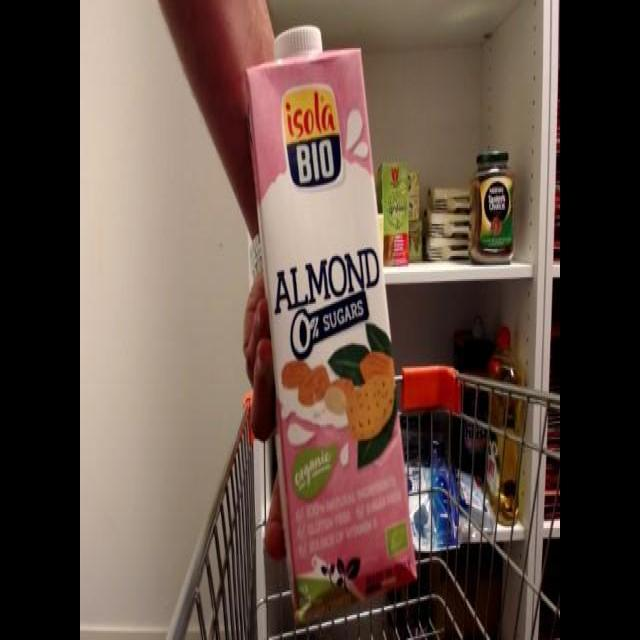Almond Milk: (242, 18, 428, 633)
